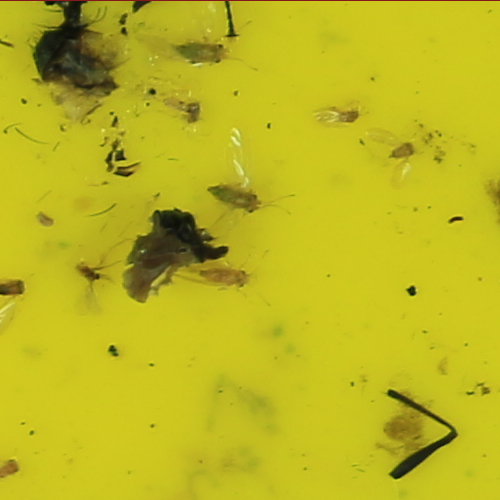psylla: (208, 181, 264, 217), (191, 265, 255, 293), (172, 39, 227, 66), (386, 138, 421, 163), (332, 103, 362, 126)
